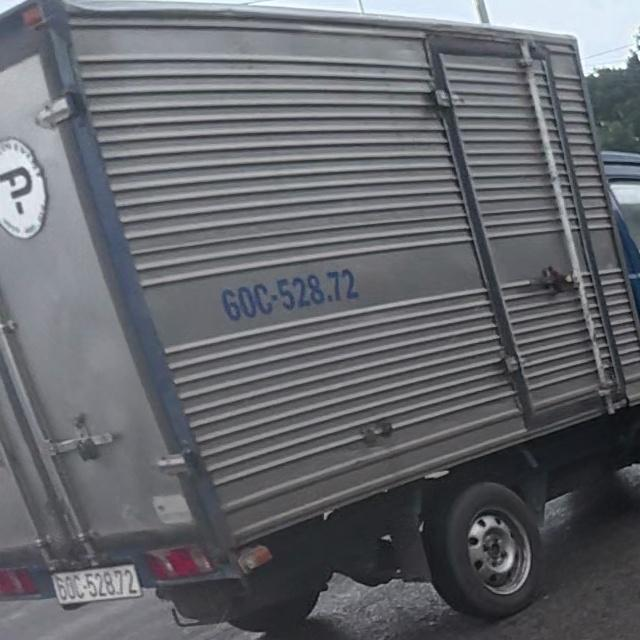license-plate: (51, 565, 142, 605)
